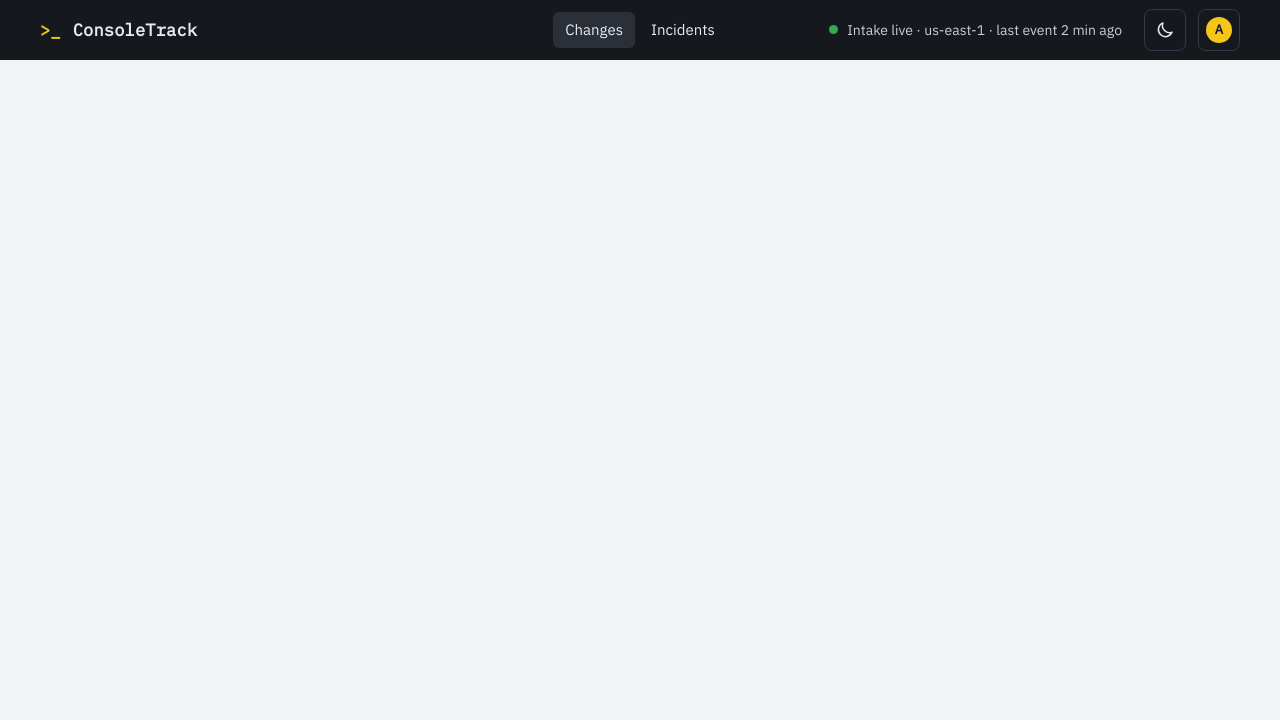
Test: login › logs out from the user menu
Step 1. Click the button named "Account: admin" → (1219,30), box left=1198, top=9, right=1240, bottom=51
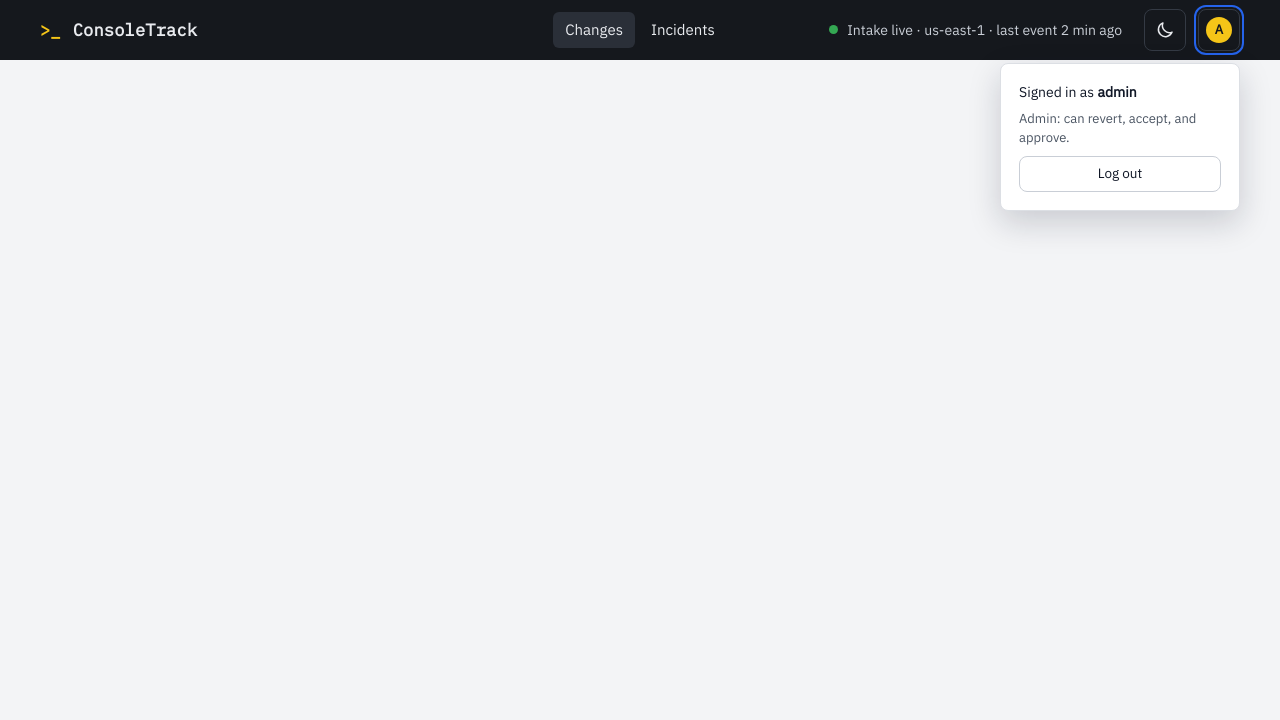
Step 2. Click the button "Log out" → (1120,174), box left=1019, top=156, right=1221, bottom=192
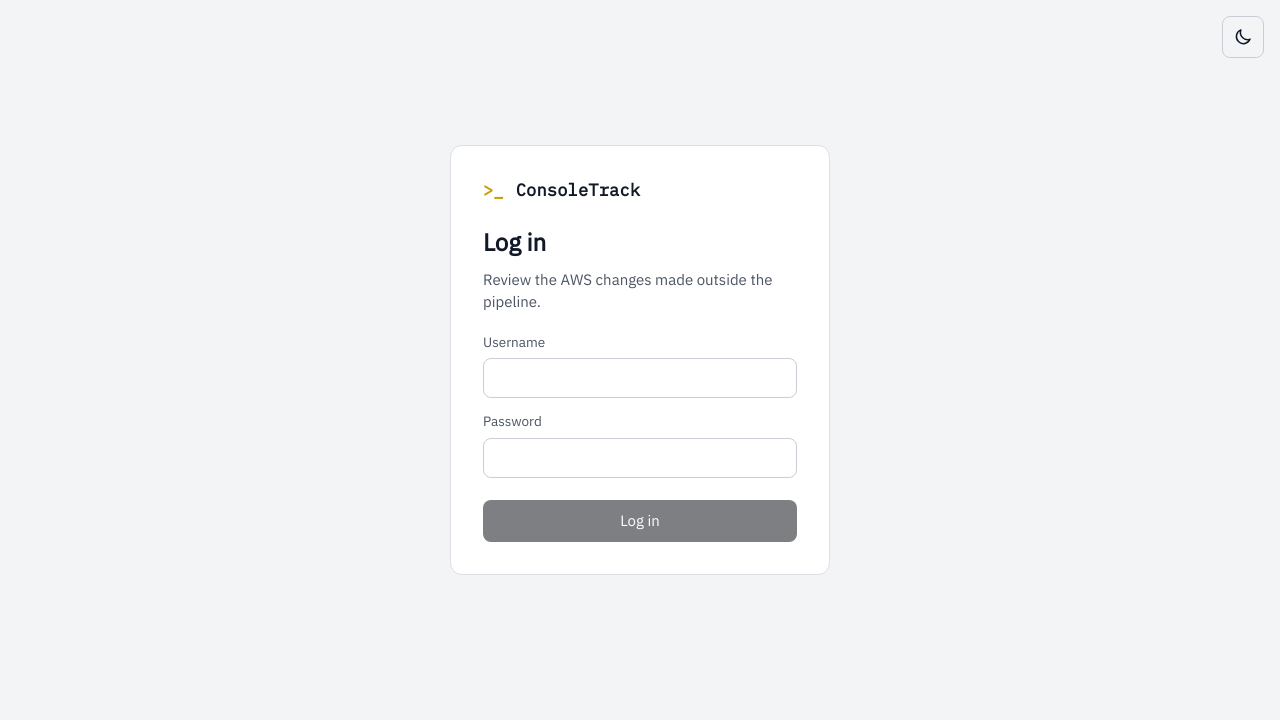
Expected: the heading "Log in" is shown, left=483, top=226, right=546, bottom=258
